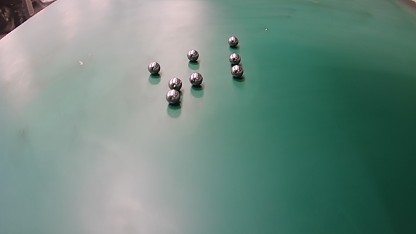ironball: (166, 89, 180, 104), (189, 72, 203, 86), (168, 77, 182, 90), (147, 61, 160, 74), (229, 53, 241, 65), (231, 65, 243, 77), (187, 49, 198, 61), (228, 36, 238, 47)
